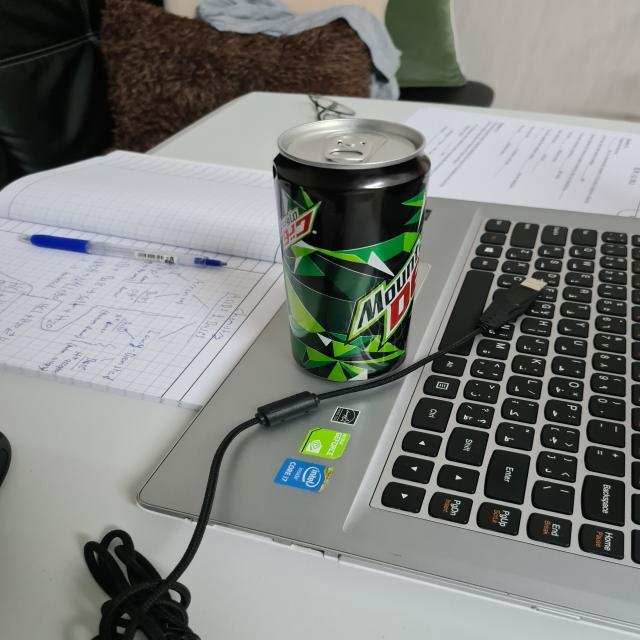can: (252, 111, 439, 388)
